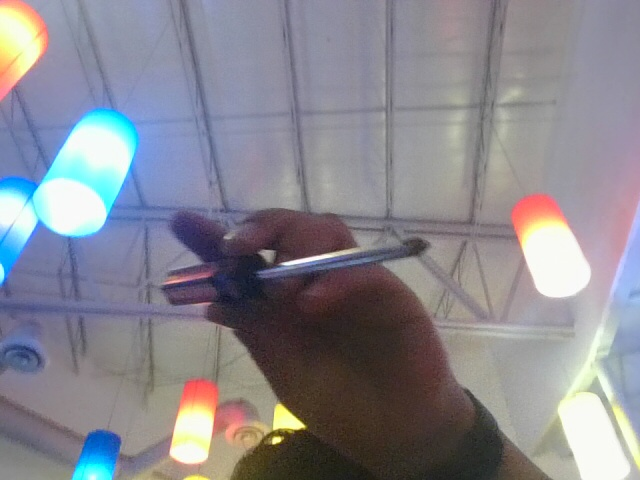destornillador: (159, 228, 433, 317)
